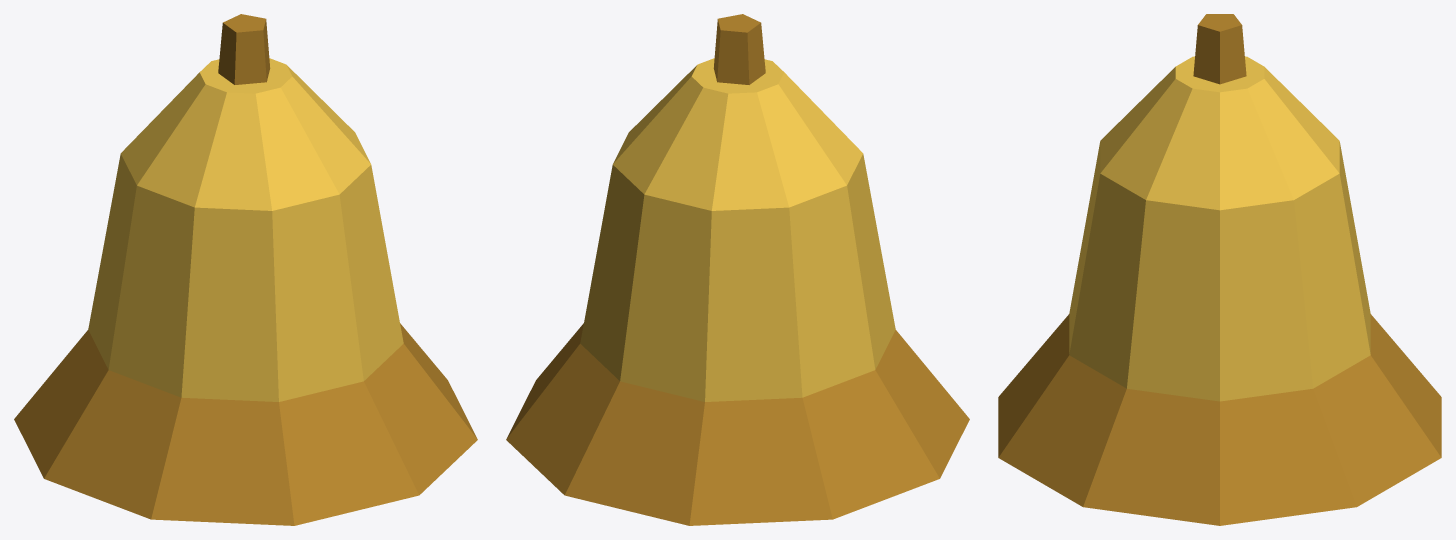
File: note.glb
3 renders of one model, left to right at view 1: azimuth 30°, elevation 25°; view 2: azimuth 150°, elevation 25°; view 3: azimuth 270°, elevation 25°, orthographic.
Parts seen in each view (by area): view 1: Model; view 2: Model; view 3: Model.
Boxes of the visible parts, x1,y1,x2,y2 form: Model: [14, 14, 477, 525]; Model: [506, 14, 969, 525]; Model: [998, 14, 1441, 525].
Size of the model in its own units: 0.5 by 0.535 by 0.4755.
Materials: 1 (1 with a texture image).
